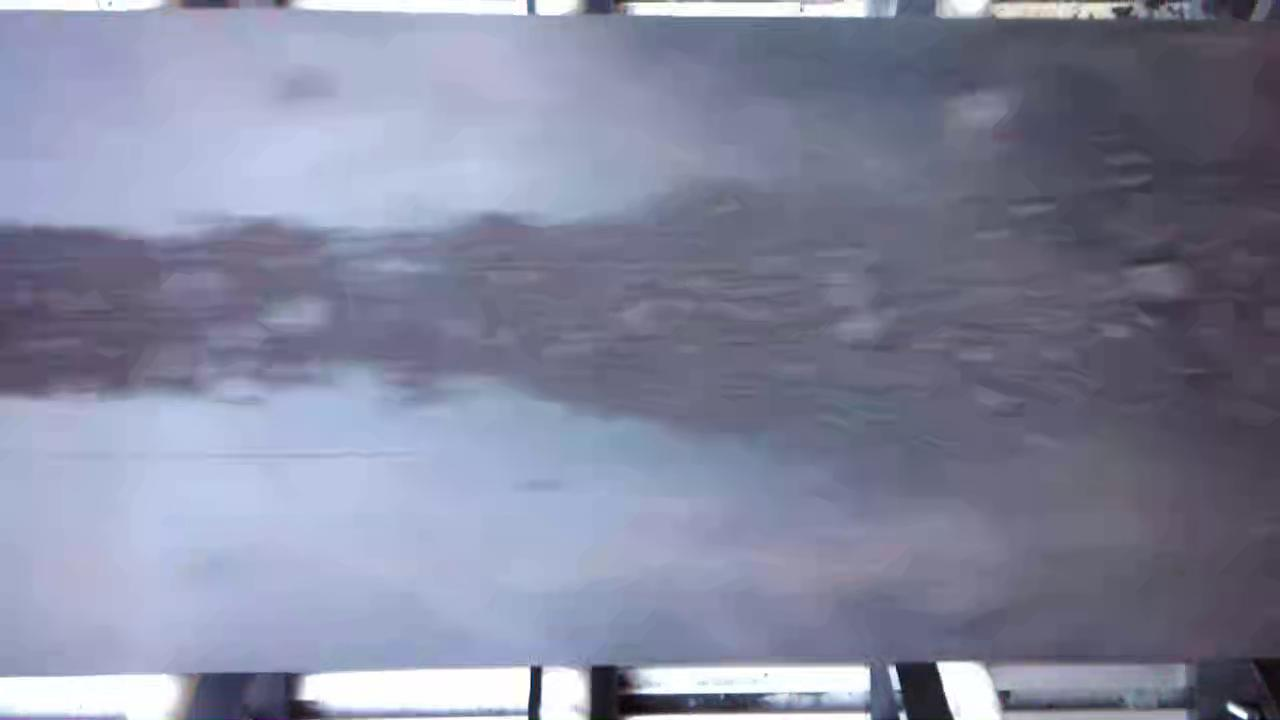conveyor: (1, 26, 1280, 651)
